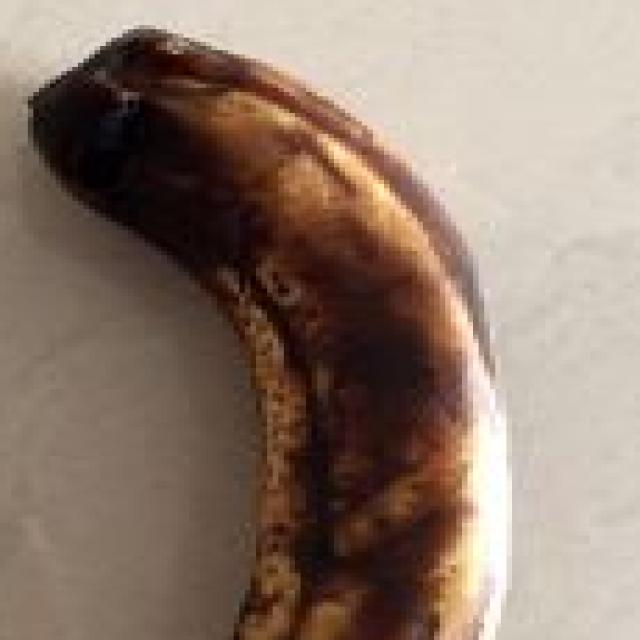Bad_Banana-0 day: (31, 27, 506, 640)
